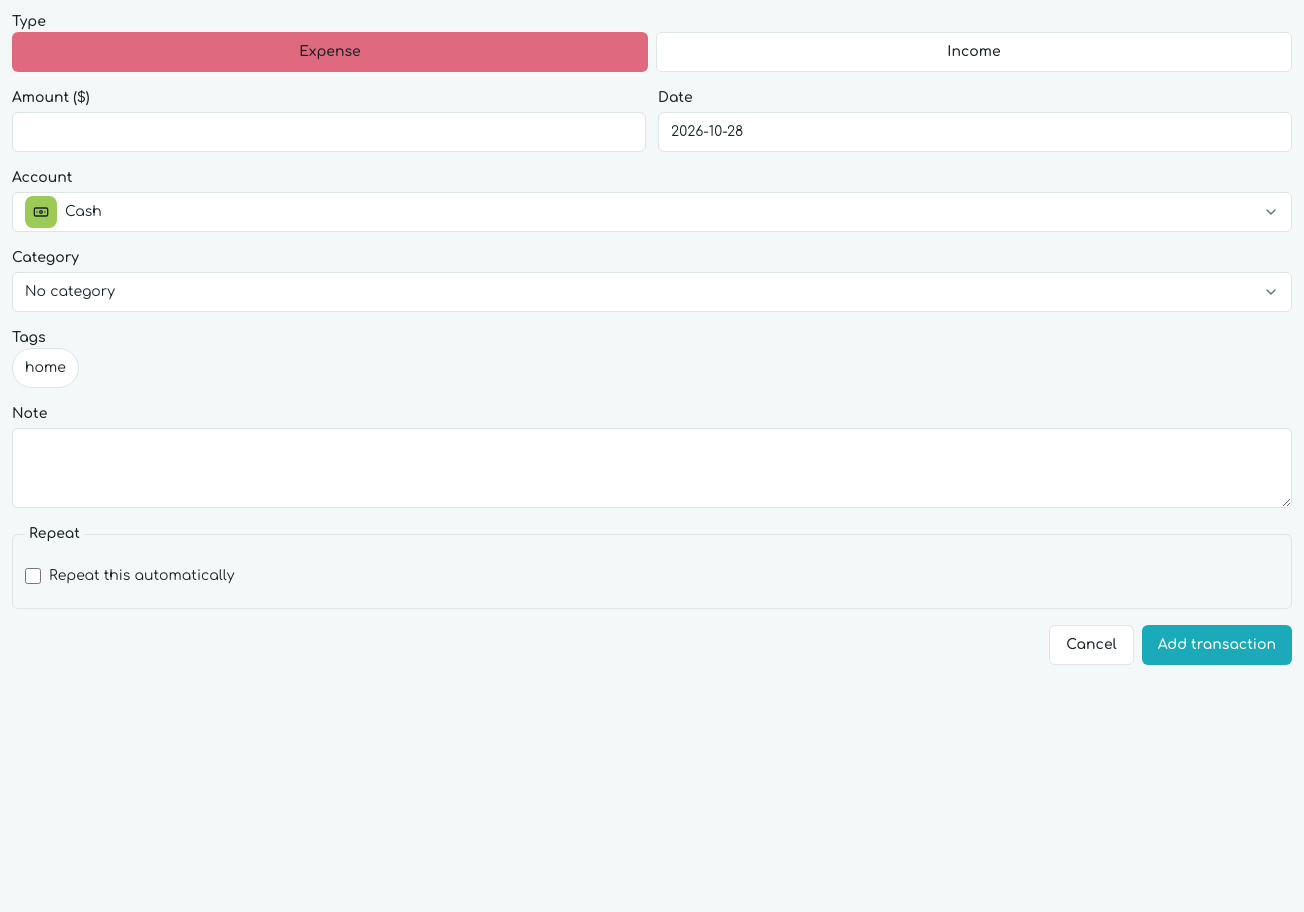
Test: repeat section of the add forms › shows other server errors on the normal fields
In the field labelled "Amount ($)": point(329, 132) 12,112 -> 646,152, type "5"
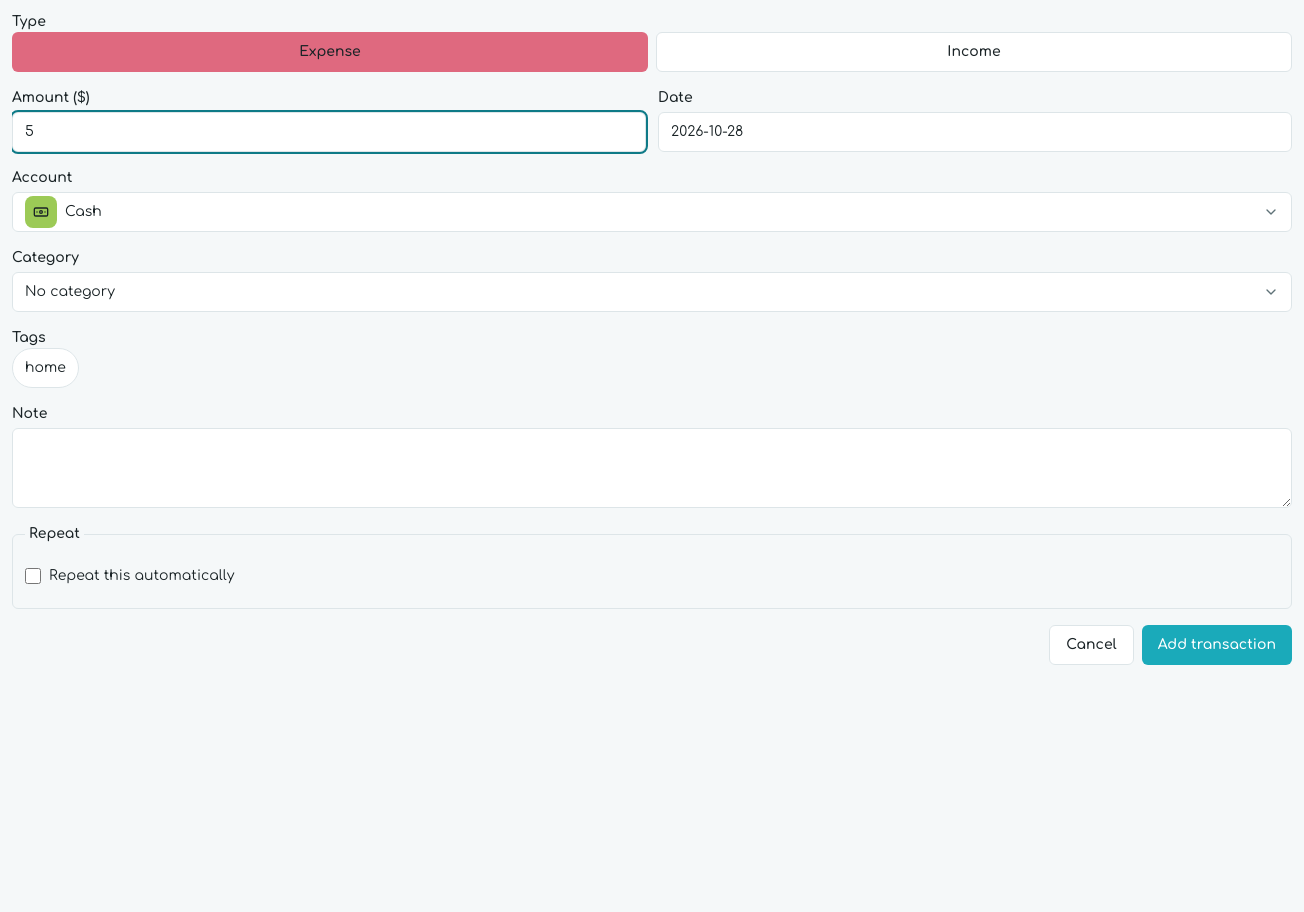
Click the checkbox labelled "Repeat this automatically": point(33, 576) 25,568 -> 41,584
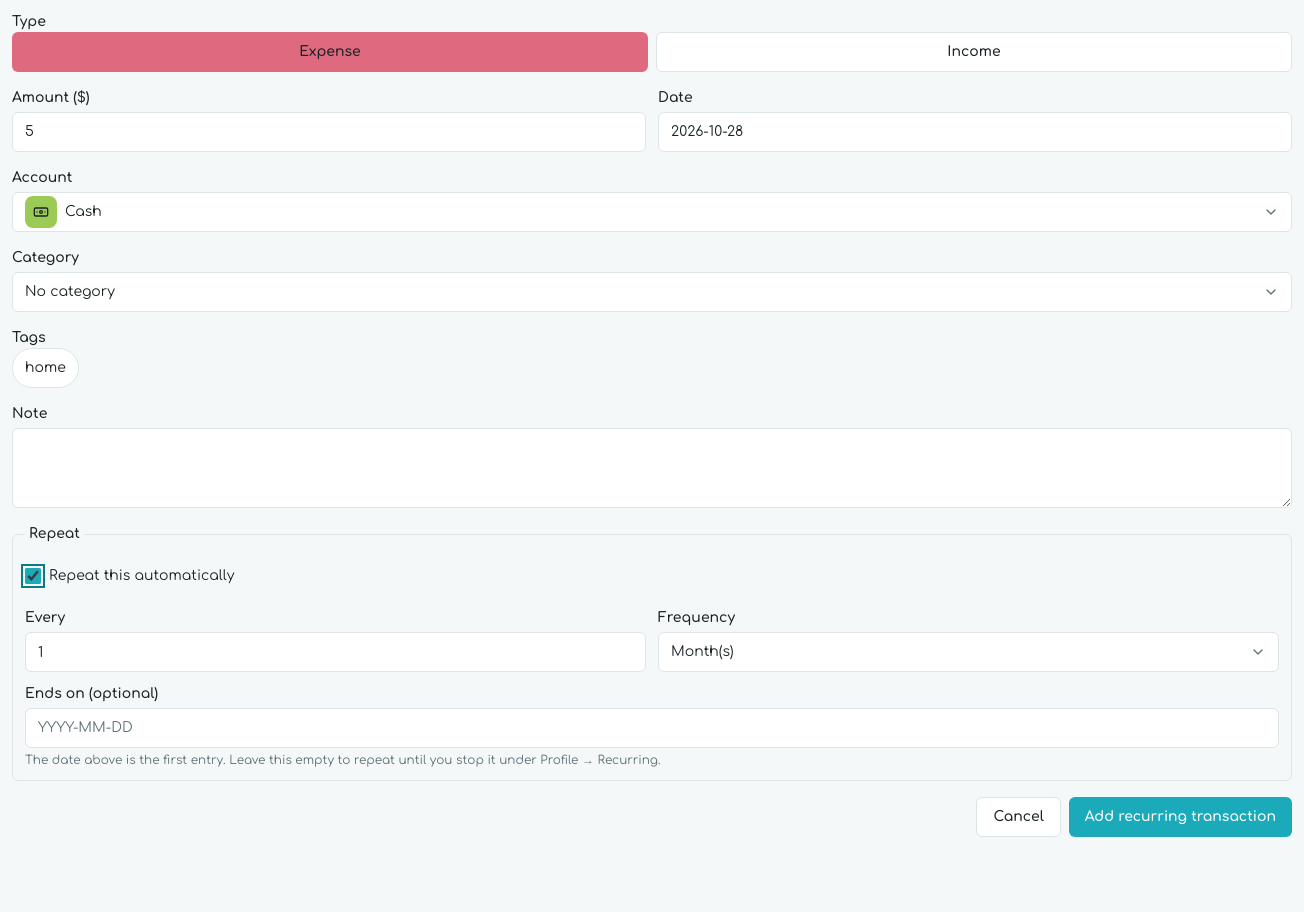
Click the button "Add recurring transaction": point(1180, 817) 1069,797 -> 1292,837
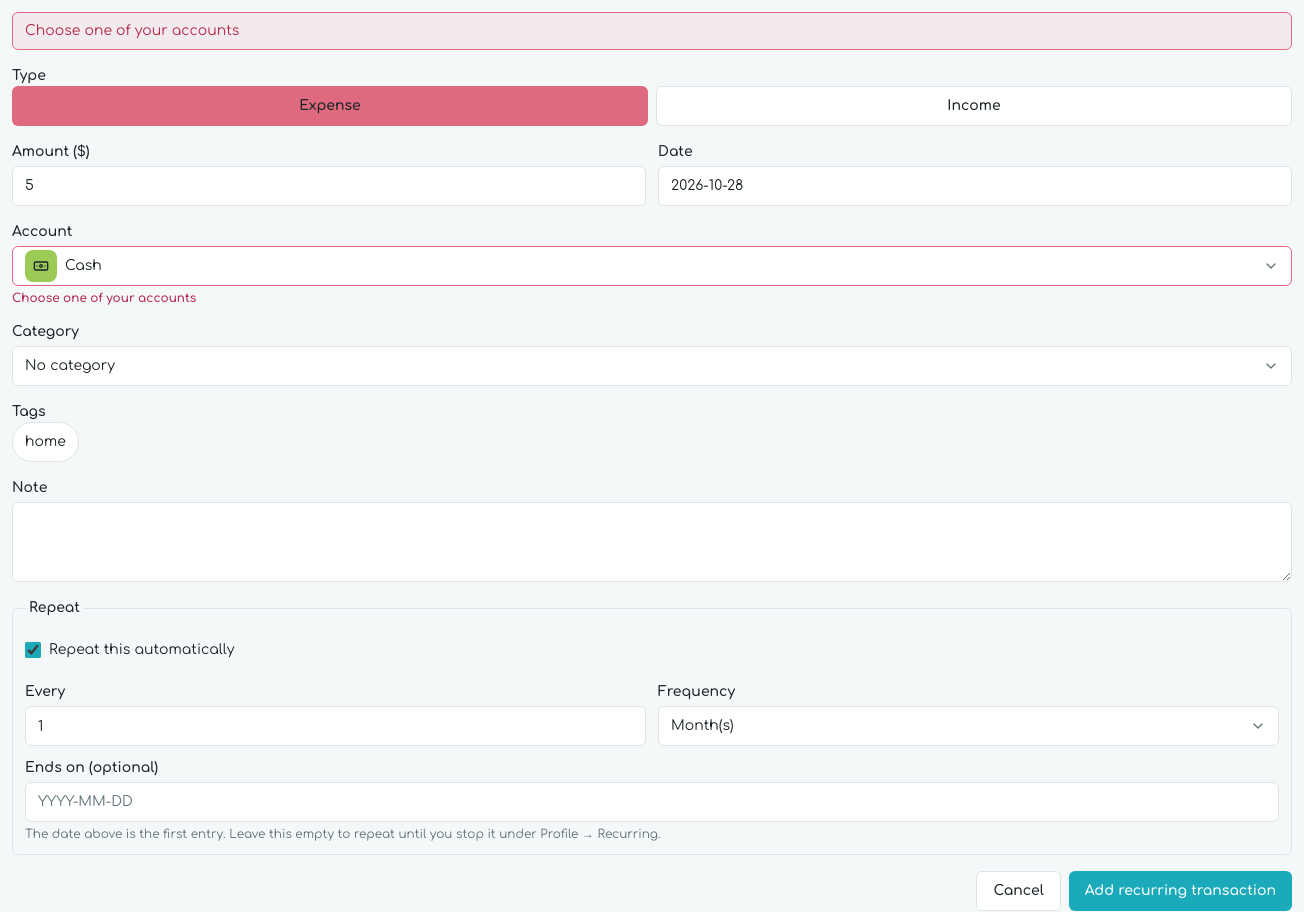
Now the 1st text "Choose one of your accounts" is shown, box 12,12 -> 1292,50
